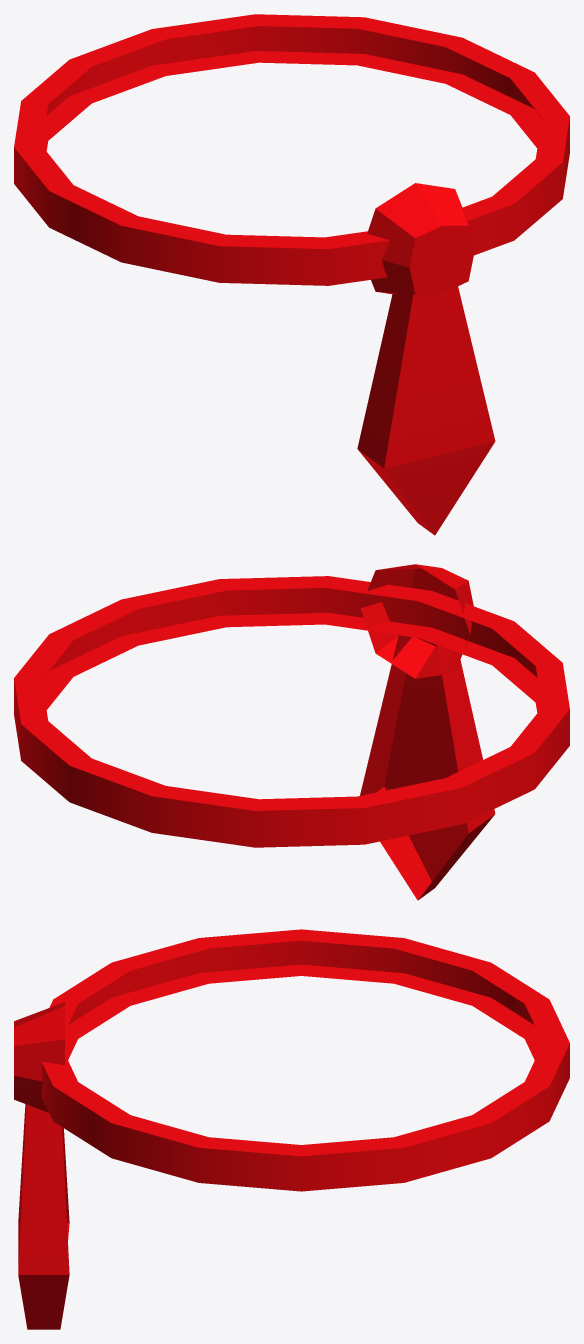
File: Capsule_Body_Prop_Neck_01.fbx
The picture shows the model from 3 angles, top to bottom: view 1: azimuth 30°, elevation 25°; view 2: azimuth 150°, elevation 25°; view 3: azimuth 270°, elevation 25°; orthographic projection. The views are drawn at different scales.
Parts seen in each view (by area): view 1: Capsule_Body_Prop_Neck_01; view 2: Capsule_Body_Prop_Neck_01; view 3: Capsule_Body_Prop_Neck_01.
Part boxes in pixels (box(x1,y1,x2,y2)): Capsule_Body_Prop_Neck_01: box(14, 14, 569, 535); Capsule_Body_Prop_Neck_01: box(14, 564, 569, 900); Capsule_Body_Prop_Neck_01: box(14, 929, 569, 1329).
Bounding box in the file's own units: 105 × 69.9 × 109.
